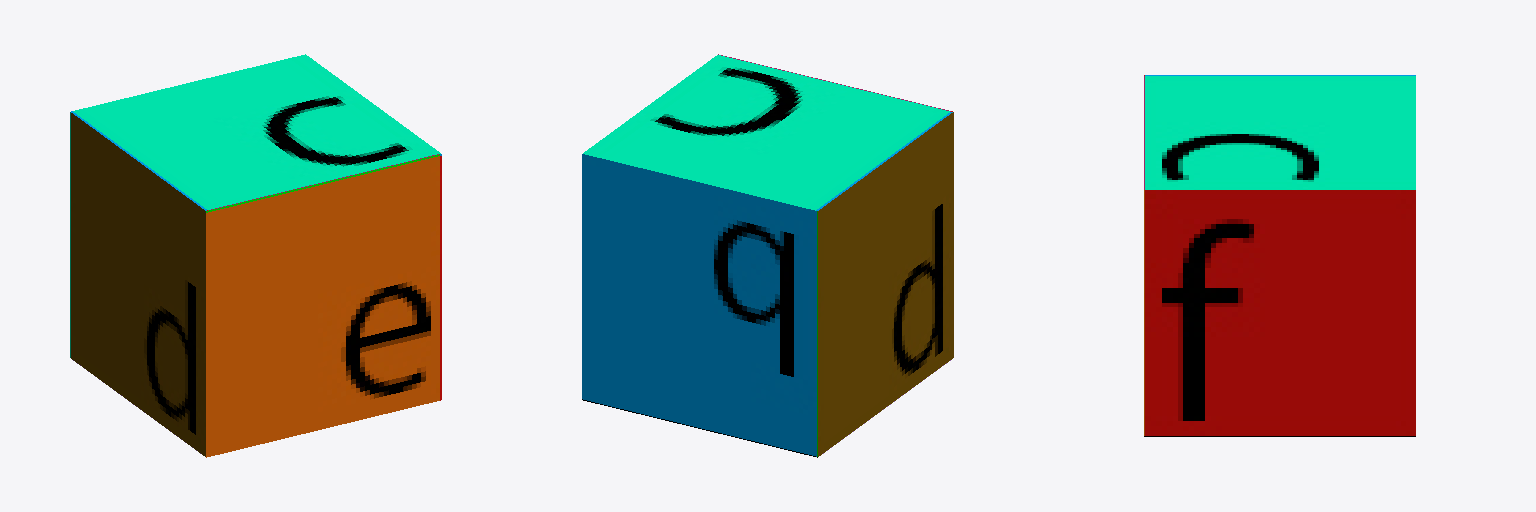
The picture shows the model from 3 angles: view 1: azimuth 30°, elevation 25°; view 2: azimuth 150°, elevation 25°; view 3: azimuth 270°, elevation 25°; orthographic projection.
Visible parts, largest first — view 1: box10:pCube1; view 2: box10:pCube1; view 3: box10:pCube1.
Part boxes in pixels (left/top/right/bottom): box10:pCube1: left=70, top=54, right=441, bottom=457; box10:pCube1: left=582, top=54, right=953, bottom=457; box10:pCube1: left=1144, top=75, right=1415, bottom=436.
Size of the model in its own units: 10 by 10 by 10.
1 materials, 1 textured.